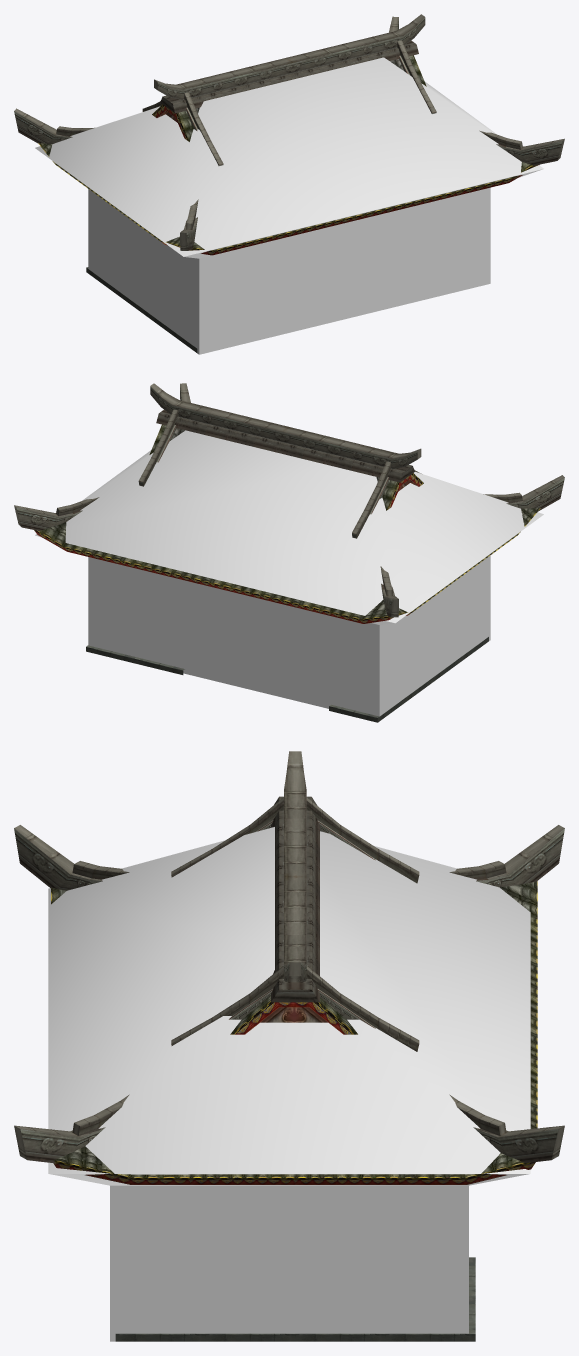
Rendered from YHJ_baozipu.FBX.
3 views of the same model, one above another, from view 1: azimuth 30°, elevation 25°; view 2: azimuth 150°, elevation 25°; view 3: azimuth 270°, elevation 25° (orthographic). The views are drawn at different scales.
Visible parts, largest first — view 1: YHJ_baozipu-col, YHJ_baozipu; view 2: YHJ_baozipu-col, YHJ_baozipu; view 3: YHJ_baozipu-col, YHJ_baozipu.
Part boxes in pixels (left/top/right/bottom): YHJ_baozipu-col: left=35, top=57, right=543, bottom=354; YHJ_baozipu: left=14, top=14, right=564, bottom=352; YHJ_baozipu-col: left=35, top=430, right=543, bottom=716; YHJ_baozipu: left=14, top=383, right=564, bottom=722; YHJ_baozipu-col: left=48, top=827, right=530, bottom=1341; YHJ_baozipu: left=14, top=751, right=564, bottom=1341.
Bounding box in the file's own units: 21.24 × 12.07 × 16.25.
